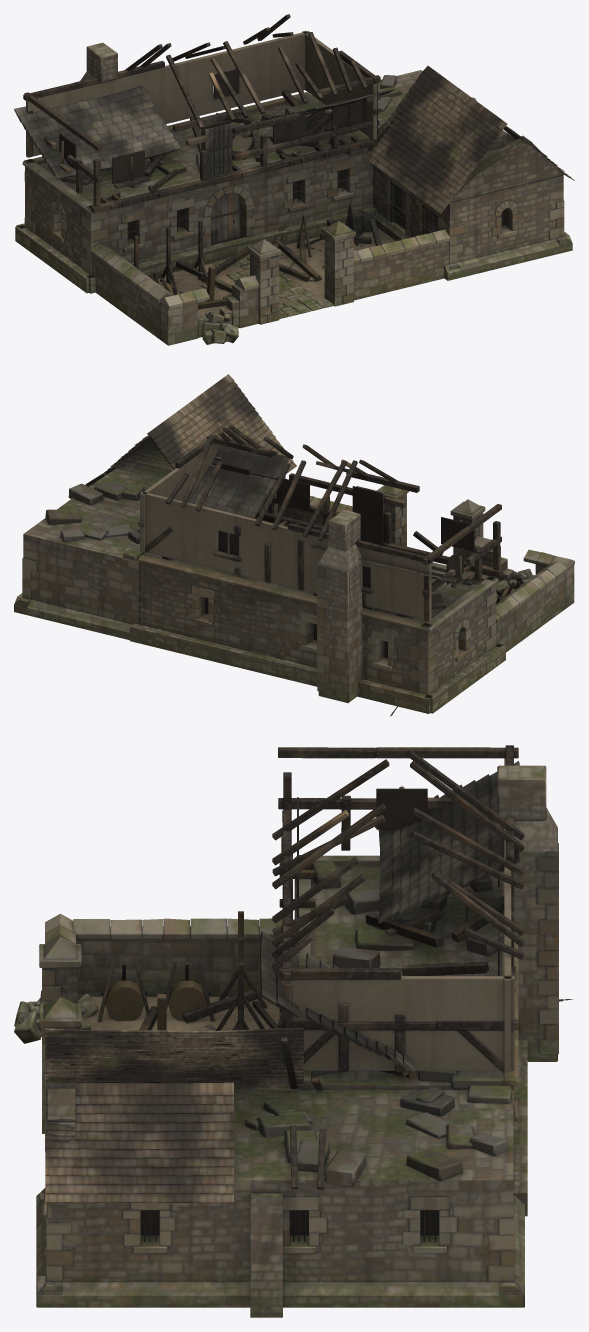
Rendered from barracks_ruin.glb.
3 renders of one model, top to bottom at view 1: azimuth 30°, elevation 25°; view 2: azimuth 150°, elevation 25°; view 3: azimuth 270°, elevation 25°, orthographic. The views are drawn at different scales.
Parts seen in each view (by area): view 1: barracks_ruin_LOD0; view 2: barracks_ruin_LOD0; view 3: barracks_ruin_LOD0.
Part boxes in pixels (x1,y1,x2,y2): barracks_ruin_LOD0: (14, 14, 574, 345); barracks_ruin_LOD0: (14, 374, 574, 716); barracks_ruin_LOD0: (14, 745, 572, 1317).
Size of what is drawn, in the model's own units: 17.15 by 7.78 by 12.04.
Materials: 1 (1 with a texture image).
